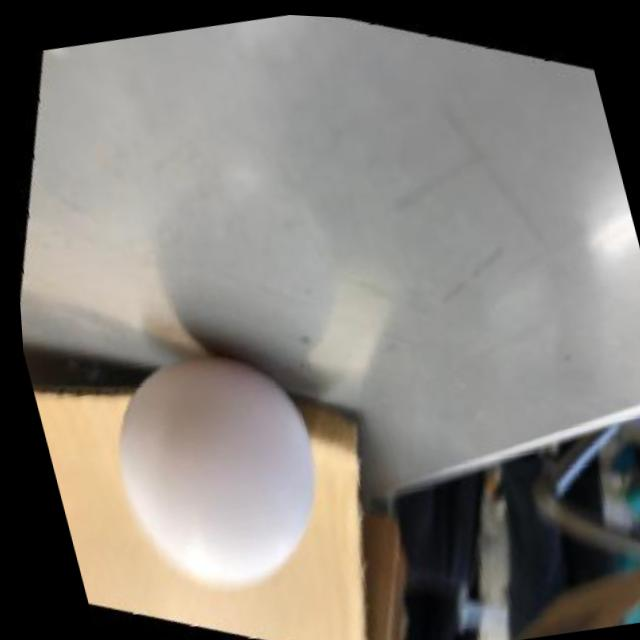egg: (84, 325, 349, 612)
